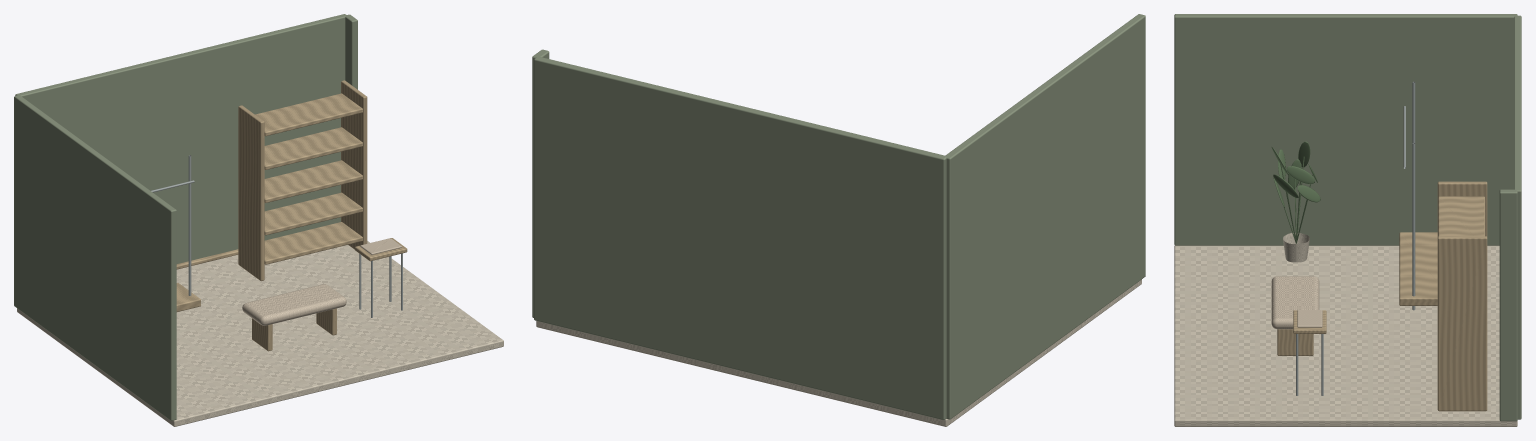
Rendered from room.glb.
3 views of the same model, side by side, from view 1: azimuth 30°, elevation 25°; view 2: azimuth 150°, elevation 25°; view 3: azimuth 270°, elevation 25° (orthographic). The views are drawn at different scales.
Parts seen in each view (by area): view 1: sage_plaster, limestone, ash_grain, fabric_linen, brushed_steel; view 2: sage_plaster, limestone; view 3: sage_plaster, limestone, ash_grain, fabric_linen, leaf, brushed_steel.
Part boxes in pixels (bbox=[...]): sage_plaster: bbox=[14, 14, 357, 420]; limestone: bbox=[17, 241, 503, 426]; ash_grain: bbox=[176, 80, 407, 351]; fabric_linen: bbox=[242, 238, 401, 325]; brushed_steel: bbox=[150, 155, 402, 317]; sage_plaster: bbox=[532, 14, 1145, 420]; limestone: bbox=[536, 279, 1141, 426]; sage_plaster: bbox=[1174, 14, 1521, 421]; limestone: bbox=[1174, 232, 1517, 426]; ash_grain: bbox=[1277, 181, 1487, 411]; fabric_linen: bbox=[1271, 276, 1322, 329]; leaf: bbox=[1271, 141, 1320, 243]; brushed_steel: bbox=[1296, 81, 1415, 395].
Bounding box in the file's own units: 4.69 × 2.89 × 3.84.
Materials: 6 (3 with a texture image).
